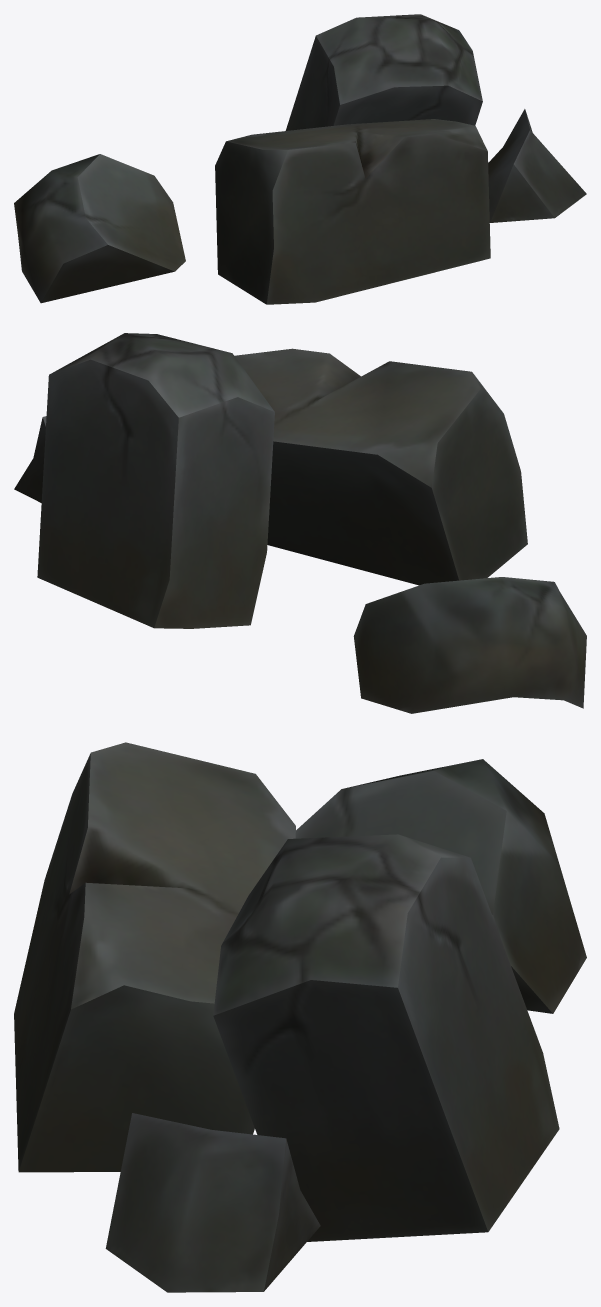
3 renders of one model, top to bottom at view 1: azimuth 30°, elevation 25°; view 2: azimuth 150°, elevation 25°; view 3: azimuth 270°, elevation 25°, orthographic. The views are drawn at different scales.
Parts seen in each view (by area): view 1: models_ruins_blocks_08-0-model; view 2: models_ruins_blocks_08-0-model; view 3: models_ruins_blocks_08-0-model.
Part boxes in pixels (x1,y1,x2,y2): models_ruins_blocks_08-0-model: (14,14,586,304); models_ruins_blocks_08-0-model: (14,333,586,713); models_ruins_blocks_08-0-model: (14,742,586,1292).
Bounding box in the file's own units: 5.7 × 2.25 × 3.12.
Materials: 1 (1 with a texture image).
